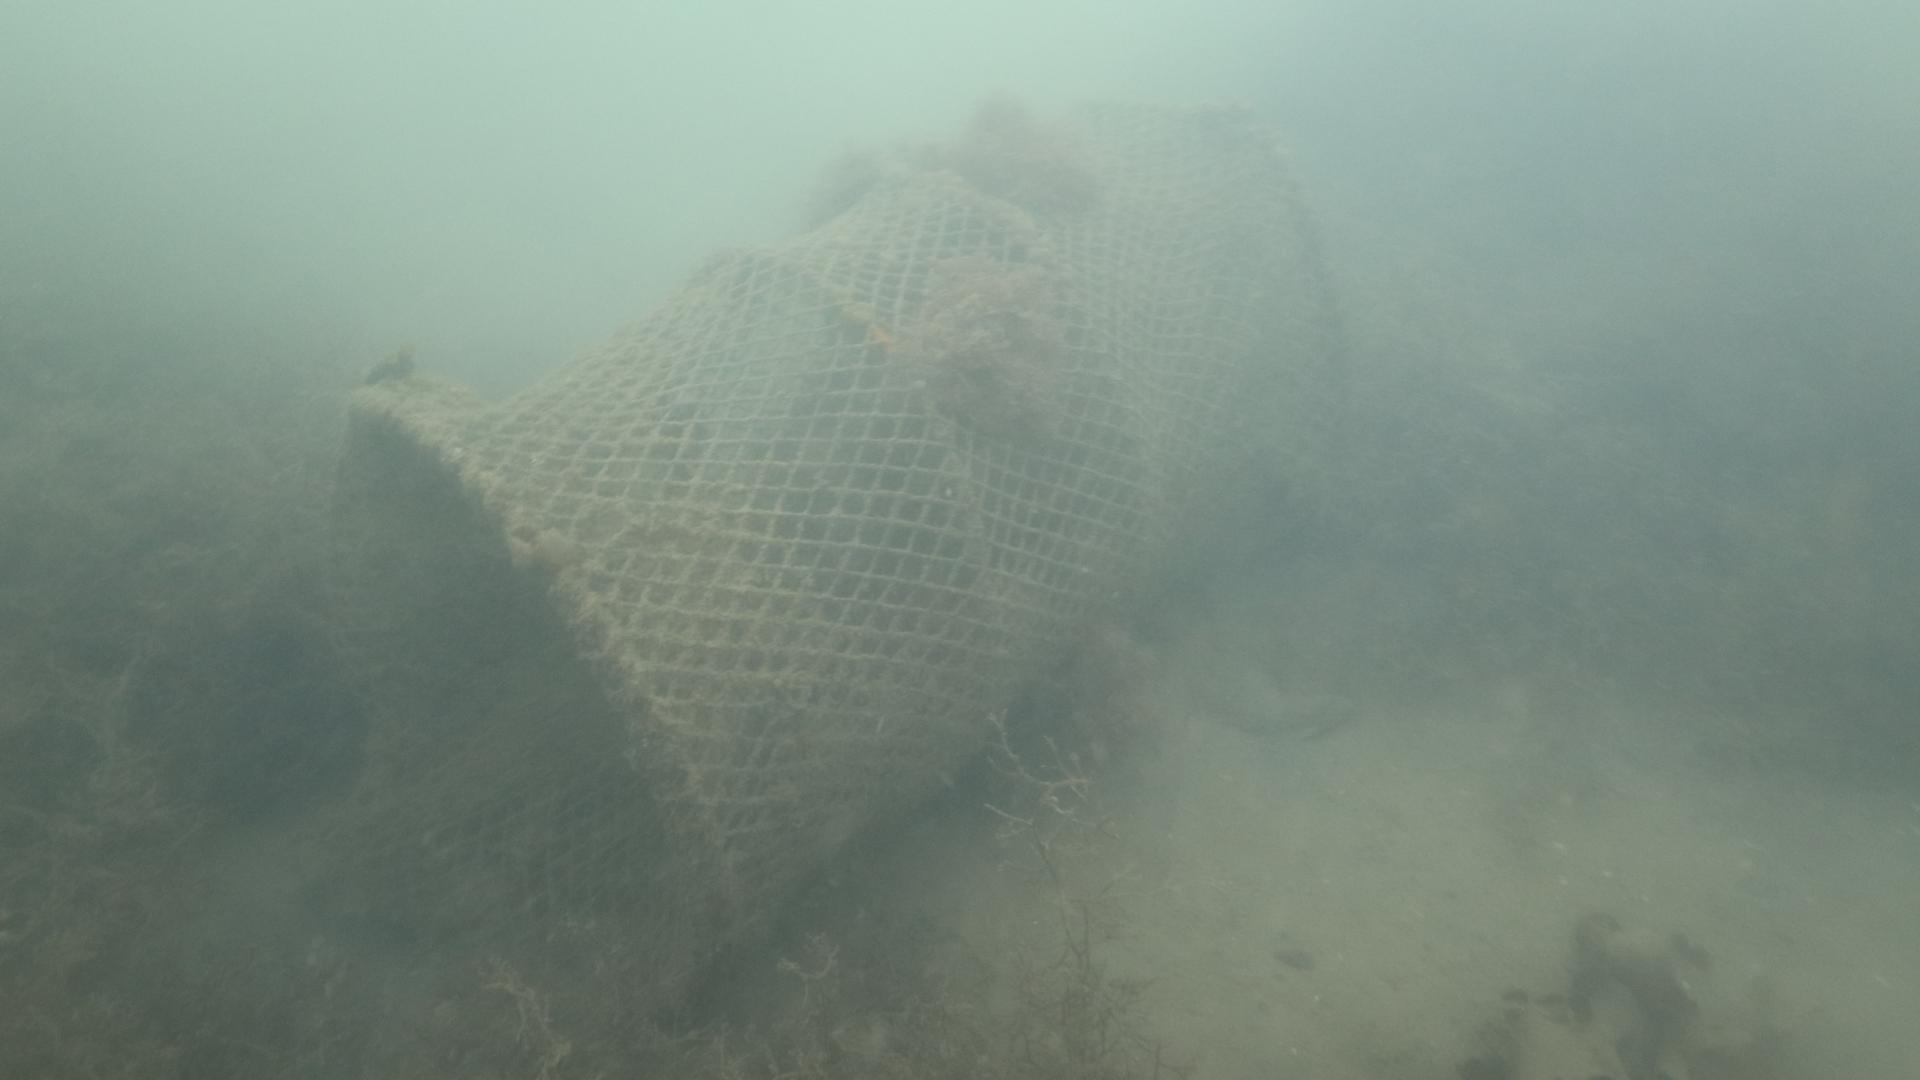spring fish trap: (319, 94, 1354, 992)
